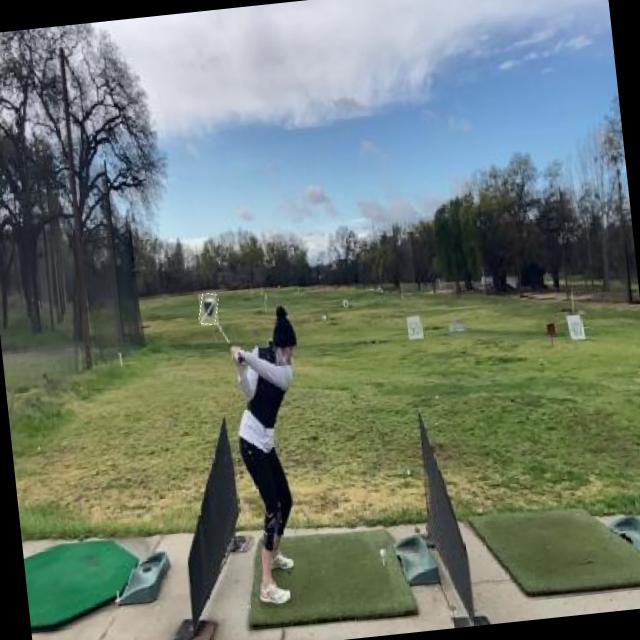club head: (198, 292, 218, 326)
